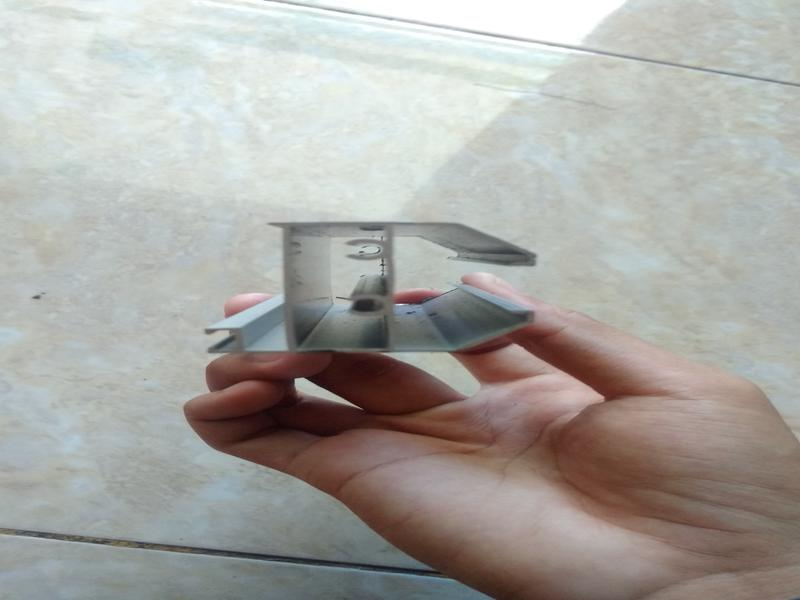Aluminium_3: (188, 207, 551, 366)
